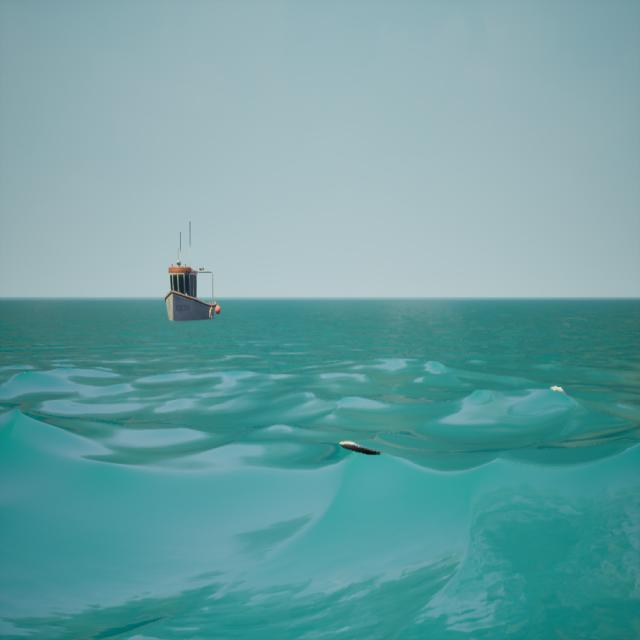ship: (164, 218, 221, 331)
